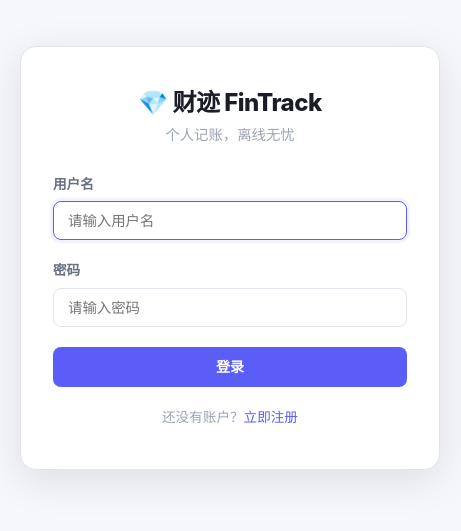
Test: Login Page › shows error when username empty
This screenshot has width=461, height=531.
Click the button "登录" at [230, 367], box [53,347,407,387]
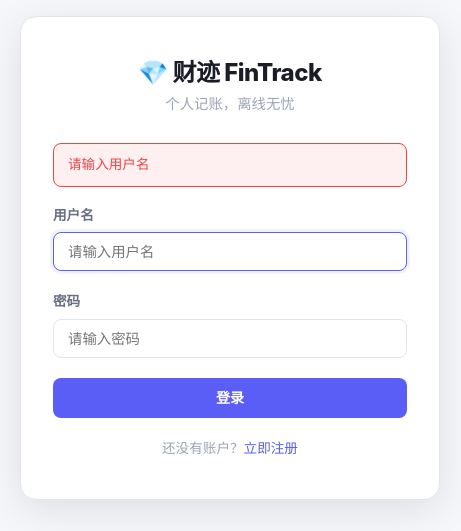
Now the text "请输入用户名" is shown, box [53,143,407,187]
